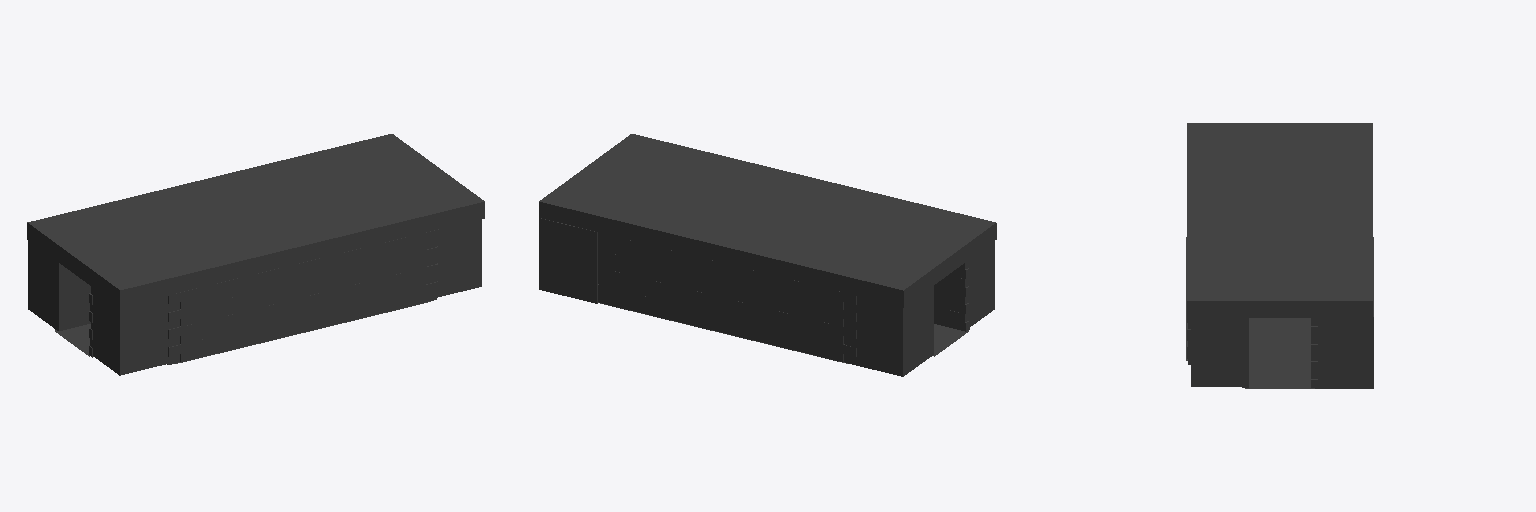
The model's file is cave.obj.
3 renders of one model, left to right at view 1: azimuth 30°, elevation 25°; view 2: azimuth 150°, elevation 25°; view 3: azimuth 270°, elevation 25°, orthographic.
Parts seen in each view (by area): view 1: Cube.005, Cube.081, Cube.001, Cube.003, Cube.002, Cube.004, Plane; view 2: Cube.005, Cube.081, Cube.001, Cube.004, Cube, Cube.003, Plane; view 3: Cube.005, Plane, Cube, Cube.002, Cube.081.
Part boxes in pixels (x1,y1,x2,y2): Cube.005: (27,134,484,307); Cube.081: (55,263,438,364); Cube.001: (55,229,438,329); Cube.003: (91,287,167,375); Cube.002: (437,220,481,297); Cube.004: (28,240,54,328); Plane: (55,301,430,363); Cube.005: (539,134,996,307); Cube.081: (598,267,969,361); Cube.001: (598,233,969,326); Cube.004: (845,288,930,376); Cube: (539,218,597,303); Cube.003: (966,241,994,326); Plane: (598,302,968,363); Cube.005: (1187,123,1372,317); Plane: (1186,237,1373,388); Cube: (1316,289,1373,388); Cube.002: (1191,318,1241,386); Cube.081: (1187,323,1317,388).
Size of the model in its own units: 117 by 26.58 by 51.42.